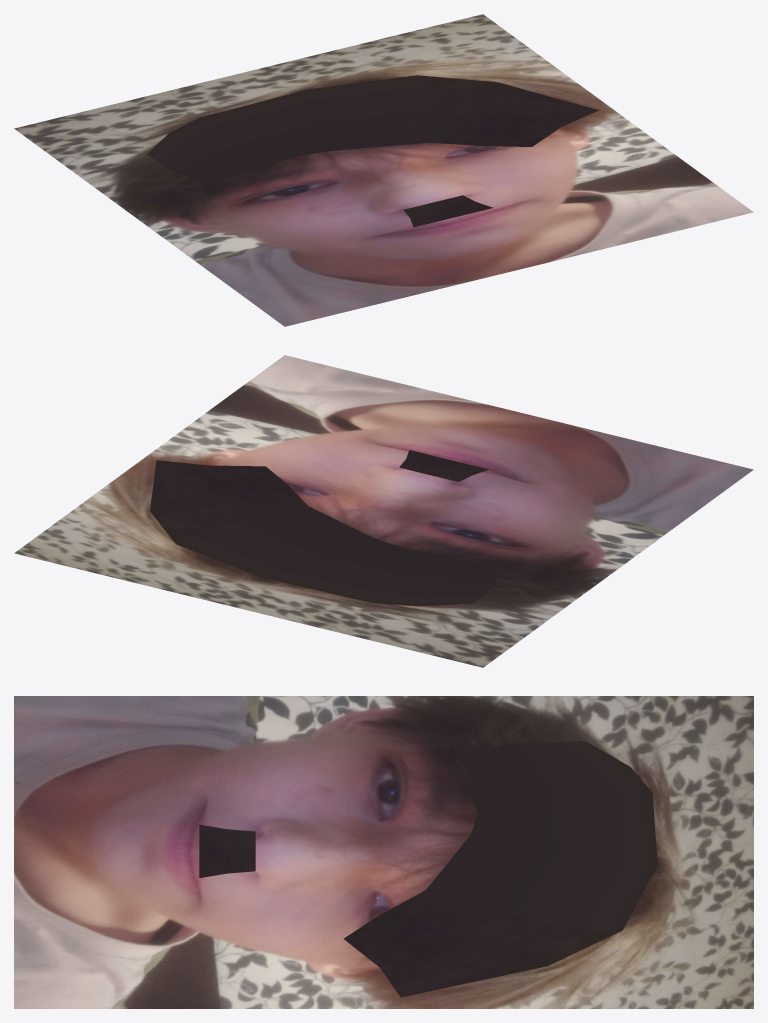
3 views of the same model, one above another, from view 1: azimuth 30°, elevation 25°; view 2: azimuth 150°, elevation 25°; view 3: azimuth 270°, elevation 25° (orthographic). The views are drawn at different scales.
Visible parts, largest first — view 1: Plane; view 2: Plane; view 3: Plane.
Part boxes in pixels (<box>): Plane: <box>14,14,753,326</box>; Plane: <box>14,355,753,667</box>; Plane: <box>14,696,753,1008</box>.
Bounding box in the file's own units: 2 × 0.00722 × 2.
